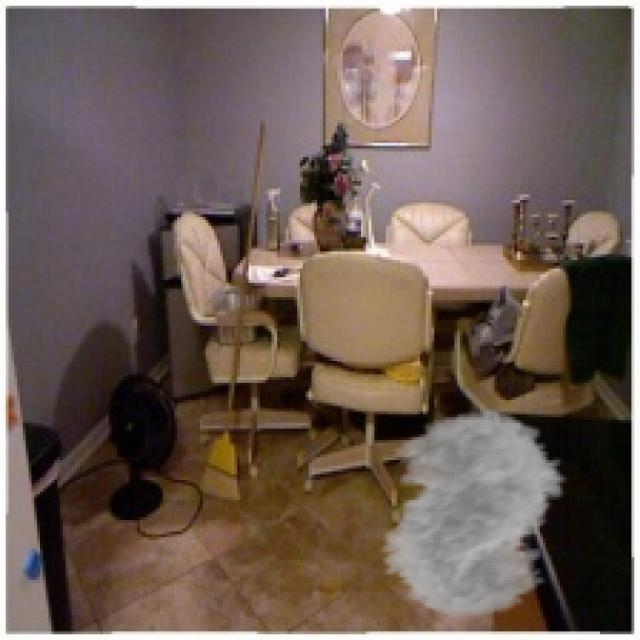Smoke: (357, 408, 583, 620)
